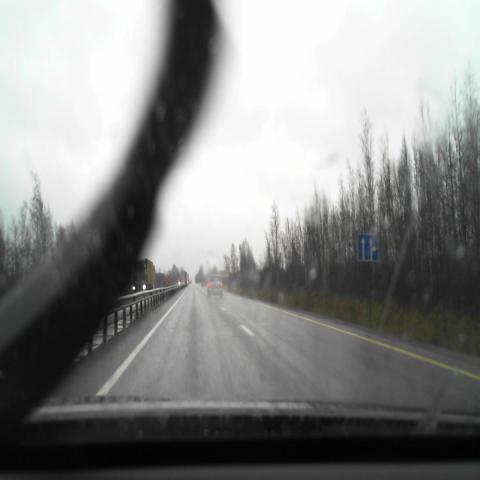5_15_2_2: (358, 234, 378, 261)
